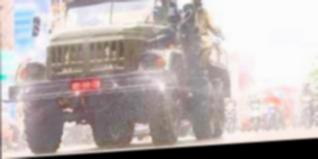License_Plate: (67, 79, 102, 94)
